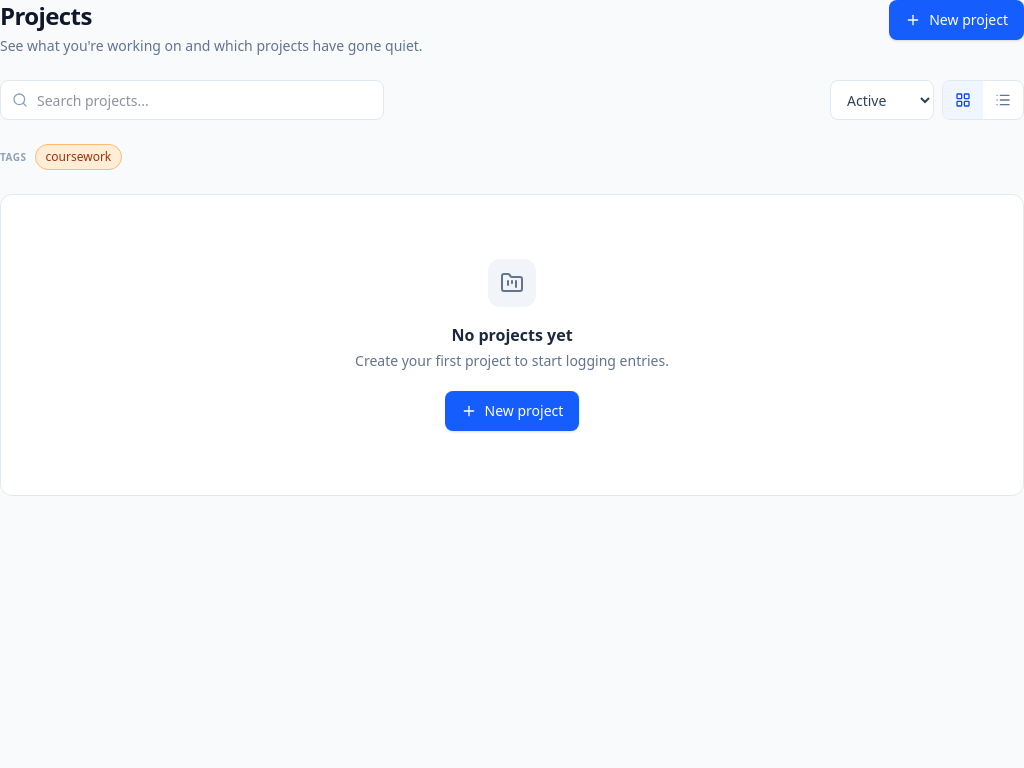
Test case: ProjectsPage — creating and editing › surfaces the server's message when saving fails
Click the 1st button "New project" at (957, 20), box [889, 0, 1023, 40]
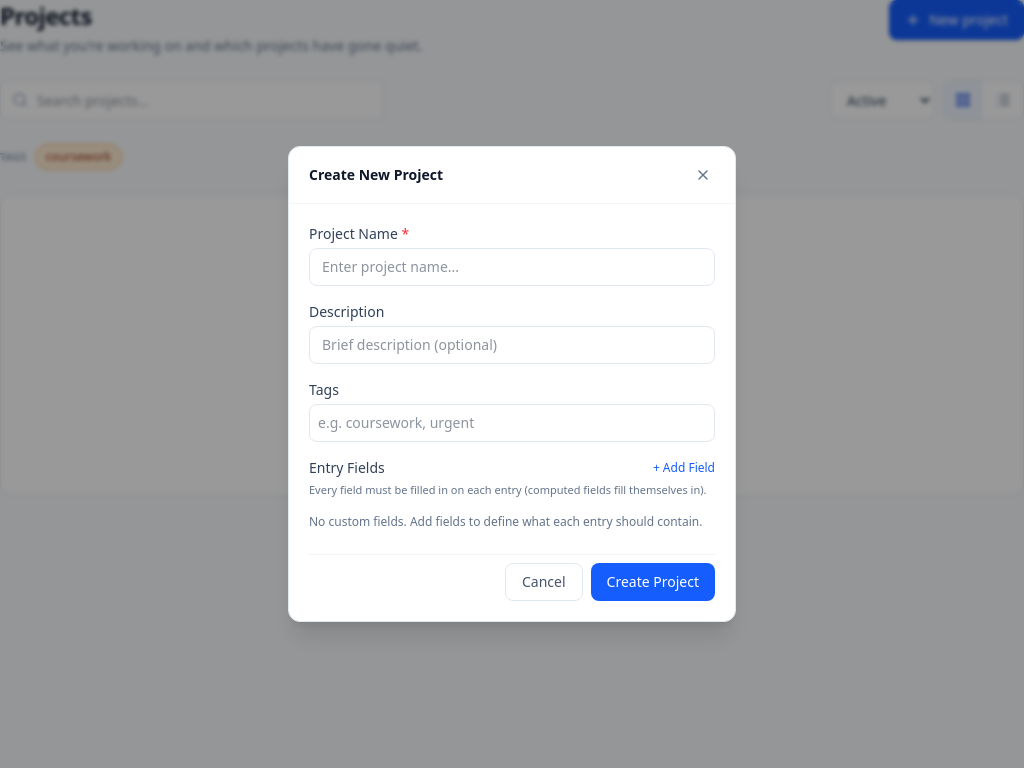
Type "Duplicate" into the field with placeholder "Enter project name..." at (512, 267), box [309, 248, 715, 286]
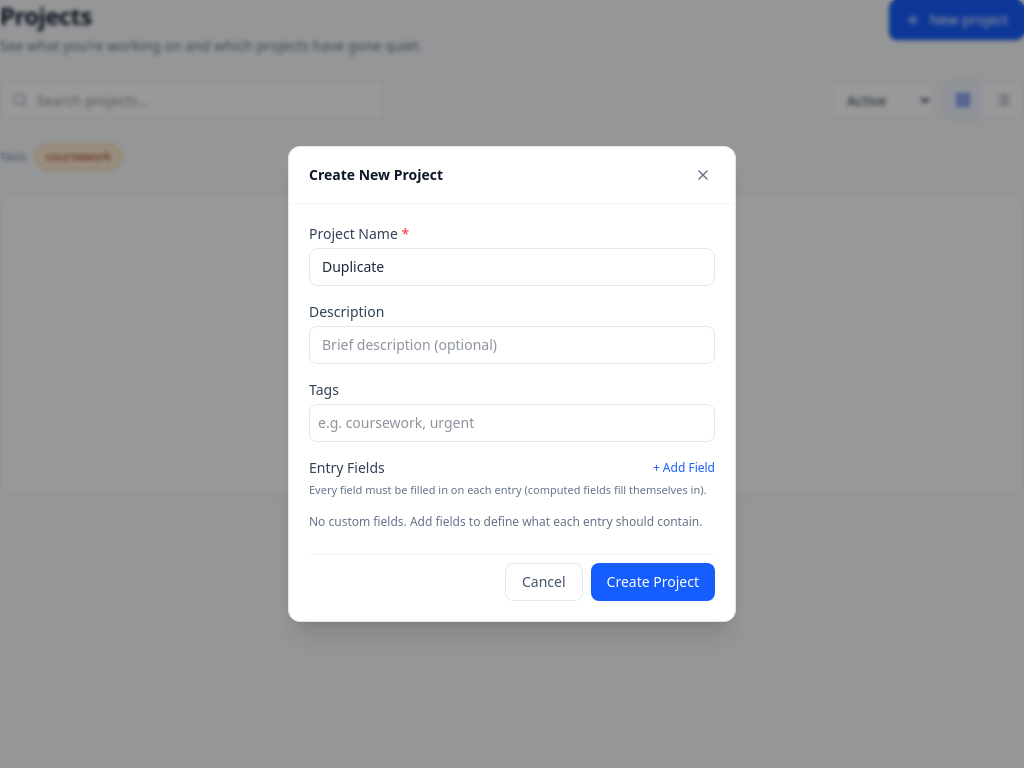
Submit the form with placeholder "Enter project name...", box [309, 224, 715, 601]
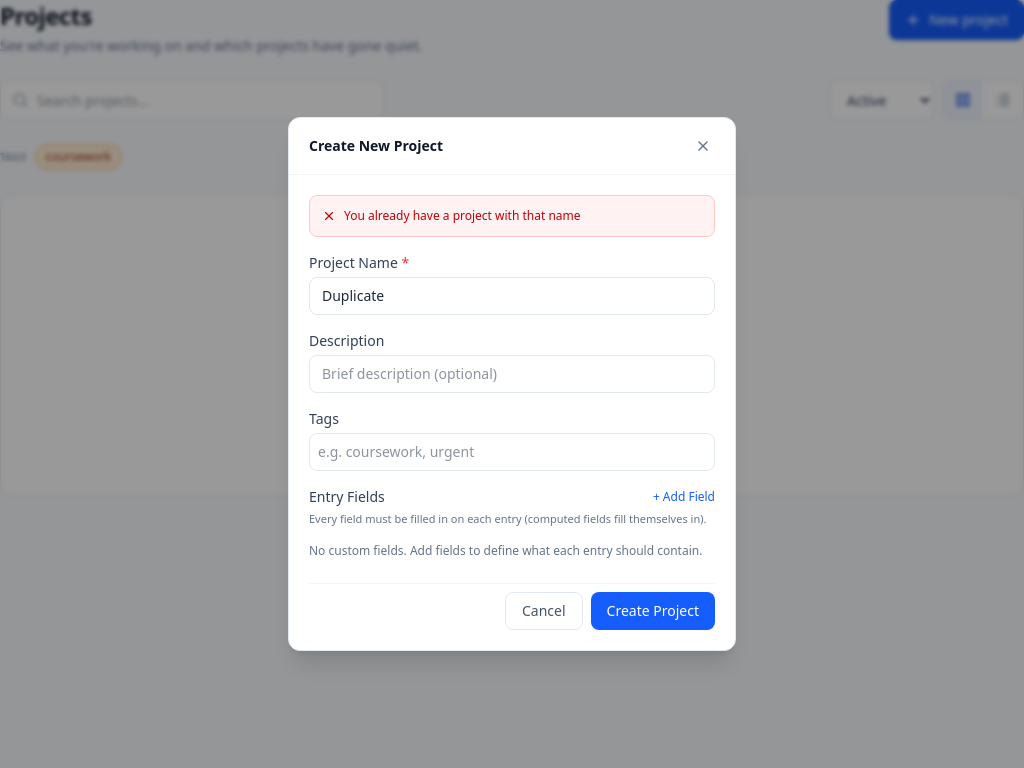
Now the text "You already have a project with that name" is shown, box [309, 195, 715, 237]
